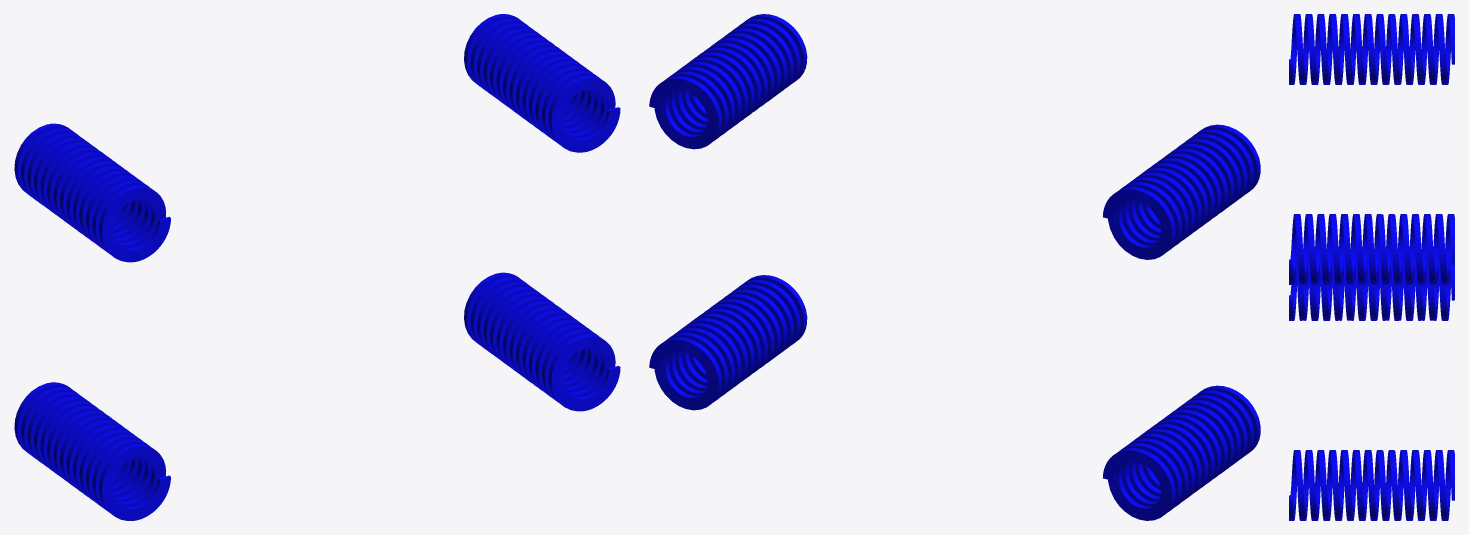
The model's file is spring.glb.
3 renders of one model, left to right at view 1: azimuth 30°, elevation 25°; view 2: azimuth 150°, elevation 25°; view 3: azimuth 270°, elevation 25°, orthographic. The views are drawn at different scales.
Visible parts, largest first — view 1: cardcase_spring_blue_080 (×4); view 2: cardcase_spring_blue_080 (×4); view 3: cardcase_spring_blue_080 (×4).
Part boxes in pixels (x1,y1,x2,y2): cardcase_spring_blue_080 (×4): (14,14,620,520); cardcase_spring_blue_080 (×4): (649,14,1260,520); cardcase_spring_blue_080 (×4): (1289,14,1454,520).
Bounding box in the file's own units: 0.23 × 0.14 × 0.07.
